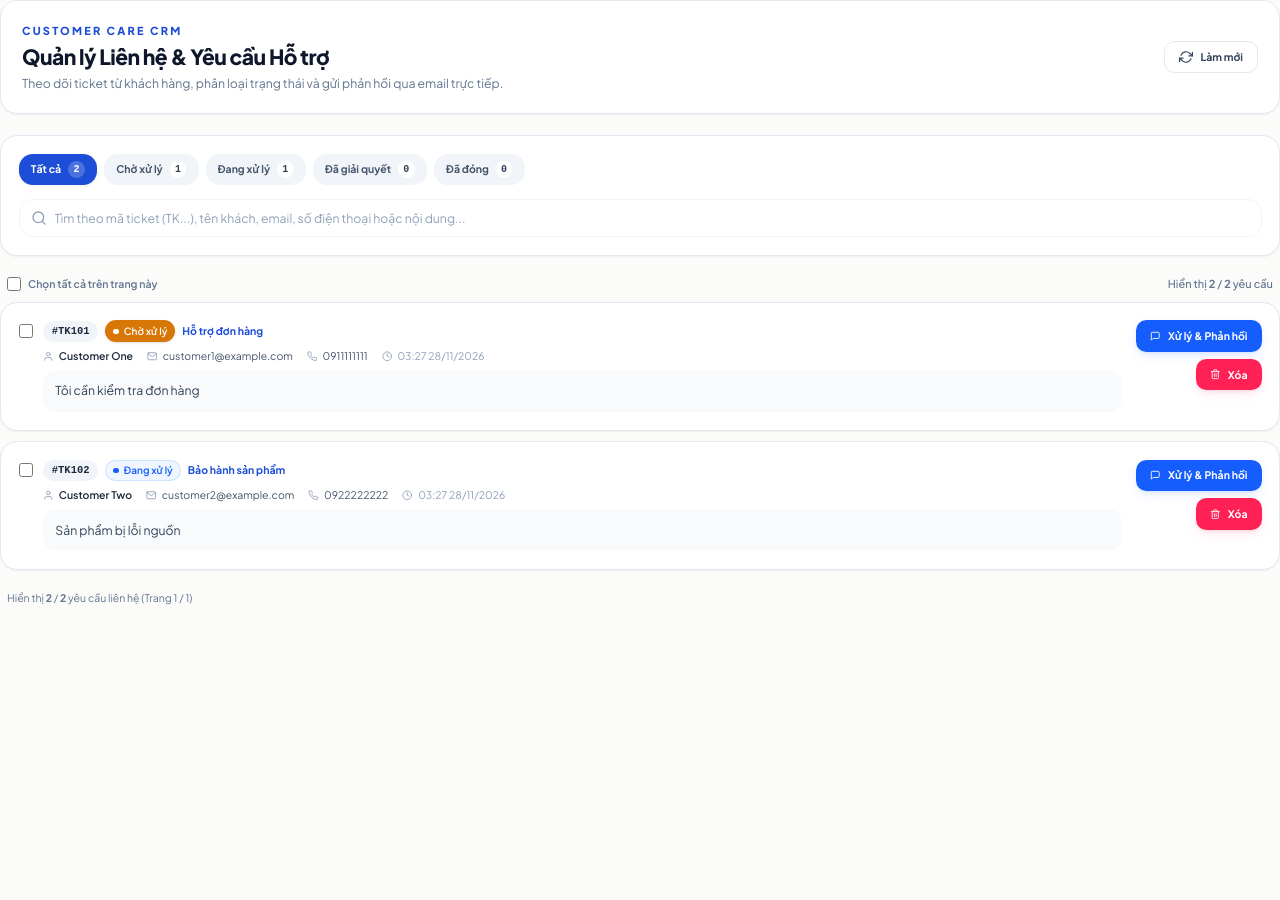
Test: ContactManage Component Tests › allows selecting individual tickets and bulk select all on page
The width and height of the screenshot is (1280, 900).
Expected: the text "#TK101" is shown, [43,321,98,342]
Click select all
Click the checkbox labelled "Chọn tất cả trên trang này".
click(14, 284)  # box [7,277,21,291]
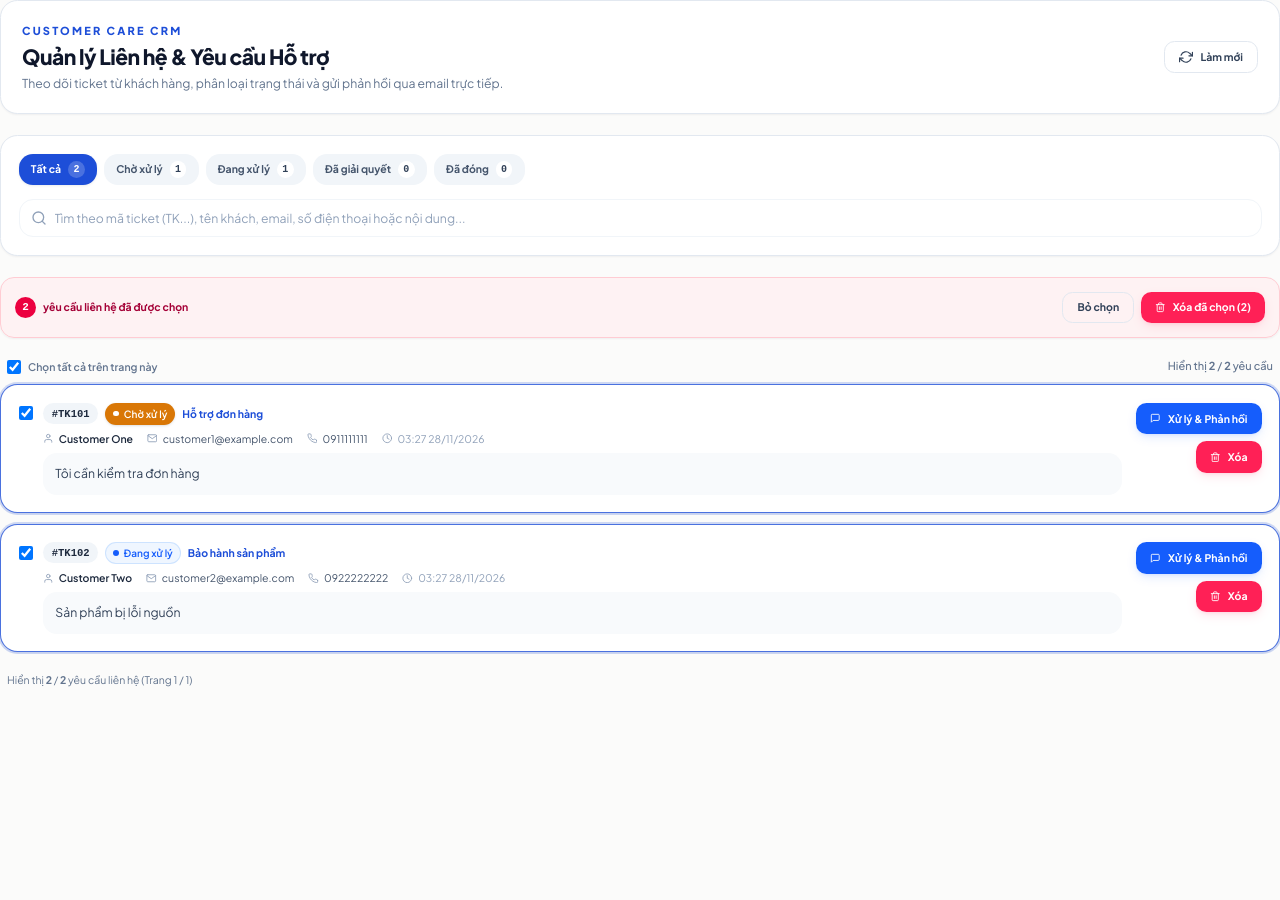
Now the text "yêu cầu liên hệ đã được chọn" is shown, box [43,300,188,314]
Now the button "Xóa đã chọn (2)" is shown, box [1141,292,1265,323]
Click Bỏ chọn
Click the button "Bỏ chọn".
click(1098, 307)  # box [1062,292,1134,323]
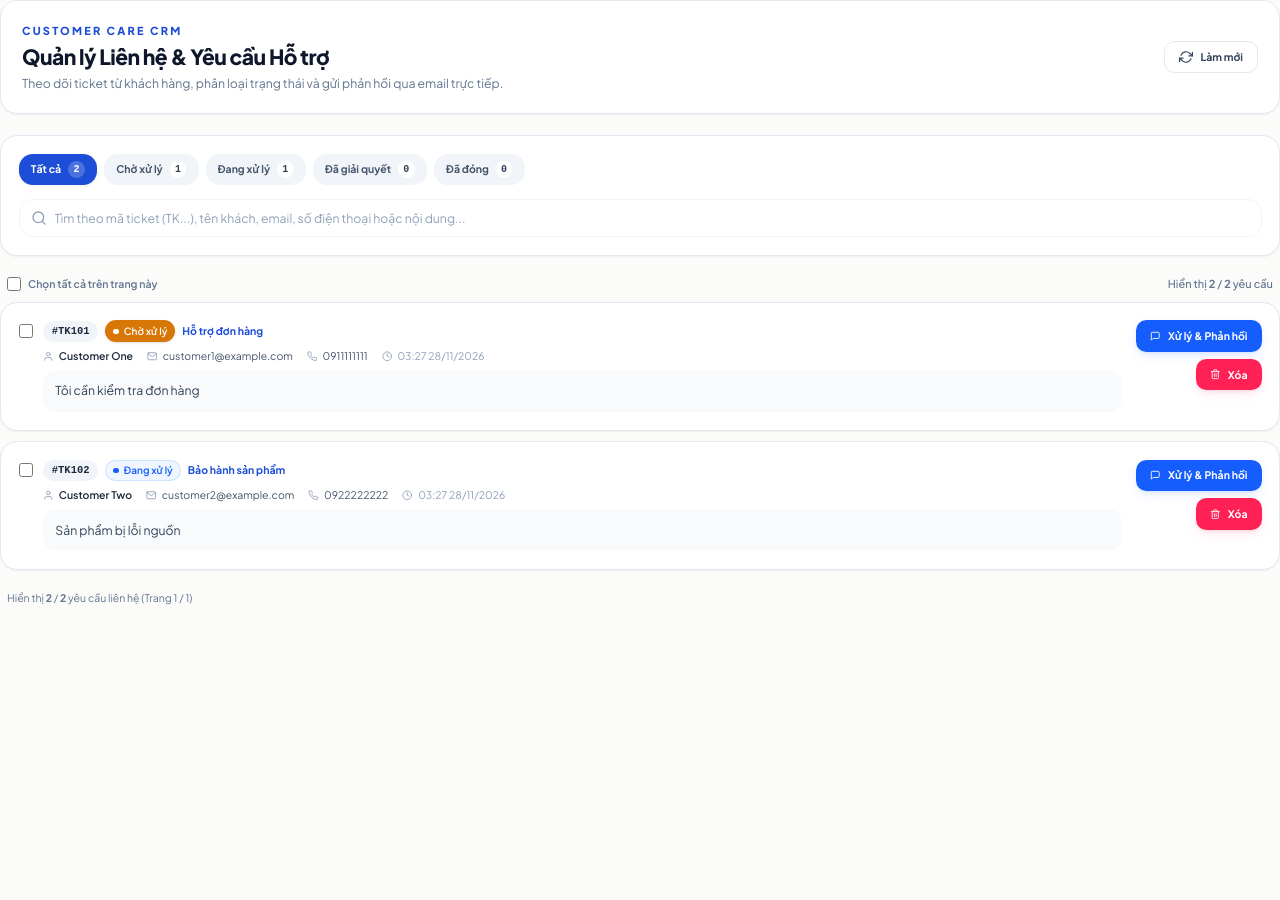
Now the text "yêu cầu liên hệ đã được chọn" is gone
